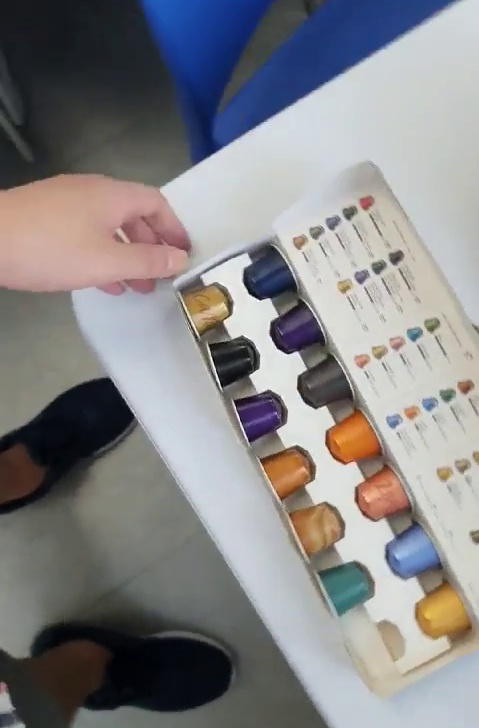capsule_2: (267, 295, 331, 357)
